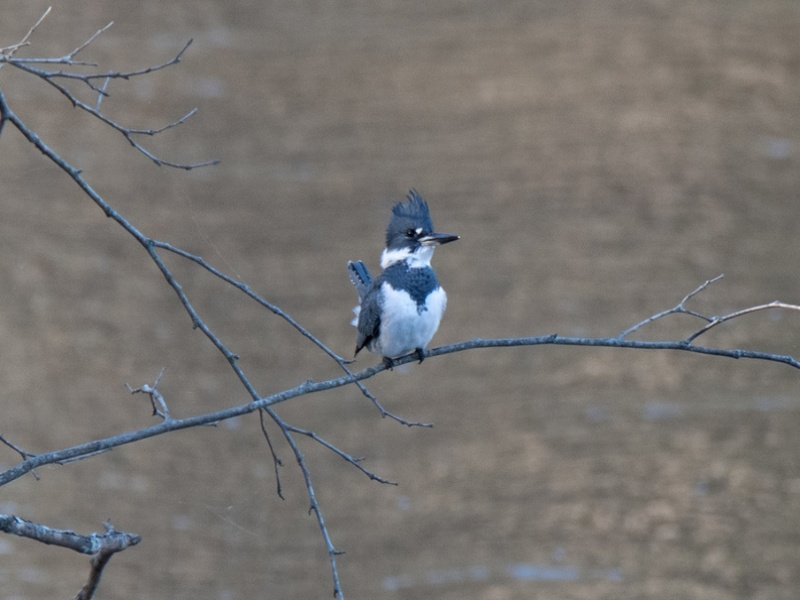kingfisher: (343, 185, 461, 370)
